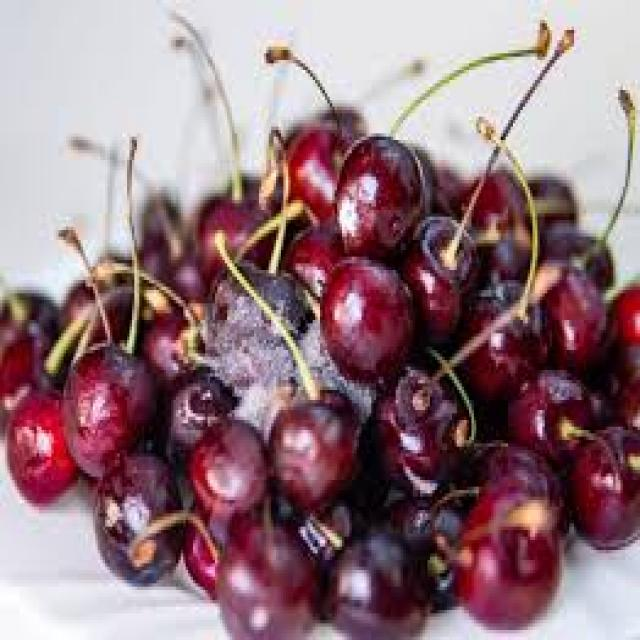organic waste: (215, 493, 318, 637), (366, 360, 472, 493), (444, 510, 560, 627), (320, 523, 432, 637), (266, 380, 362, 510), (61, 340, 152, 477), (320, 254, 415, 384), (93, 447, 181, 583), (332, 133, 420, 257), (454, 280, 550, 393), (398, 207, 476, 343), (208, 257, 305, 360), (286, 310, 374, 420), (384, 490, 466, 607), (457, 436, 562, 526), (3, 377, 78, 500), (566, 420, 638, 547), (152, 360, 230, 467), (183, 410, 264, 513), (503, 367, 594, 453), (540, 254, 611, 364), (137, 306, 200, 426), (54, 267, 129, 360), (193, 193, 276, 277), (281, 120, 339, 213), (230, 347, 293, 430), (454, 170, 528, 240), (181, 504, 232, 604), (281, 210, 335, 303), (584, 343, 637, 427), (542, 220, 611, 283), (291, 497, 354, 563), (0, 316, 46, 403), (479, 220, 537, 287), (0, 290, 59, 347), (513, 173, 574, 220), (161, 243, 205, 307), (132, 230, 171, 293), (601, 277, 637, 343), (315, 100, 364, 143), (406, 134, 432, 214), (432, 160, 467, 207), (222, 170, 256, 203)
